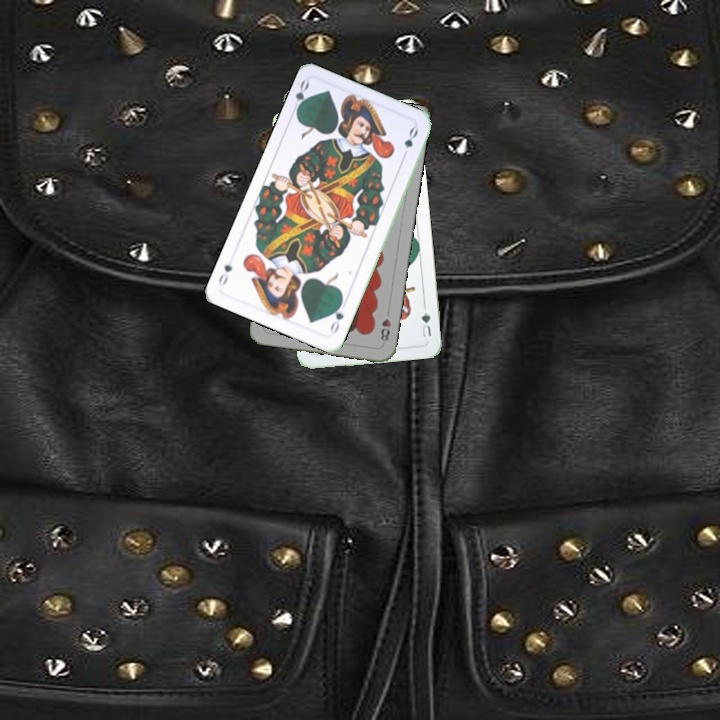GO: (288, 76, 312, 117), (326, 297, 346, 336)
GU: (417, 308, 434, 340)
H8: (376, 306, 393, 344)
